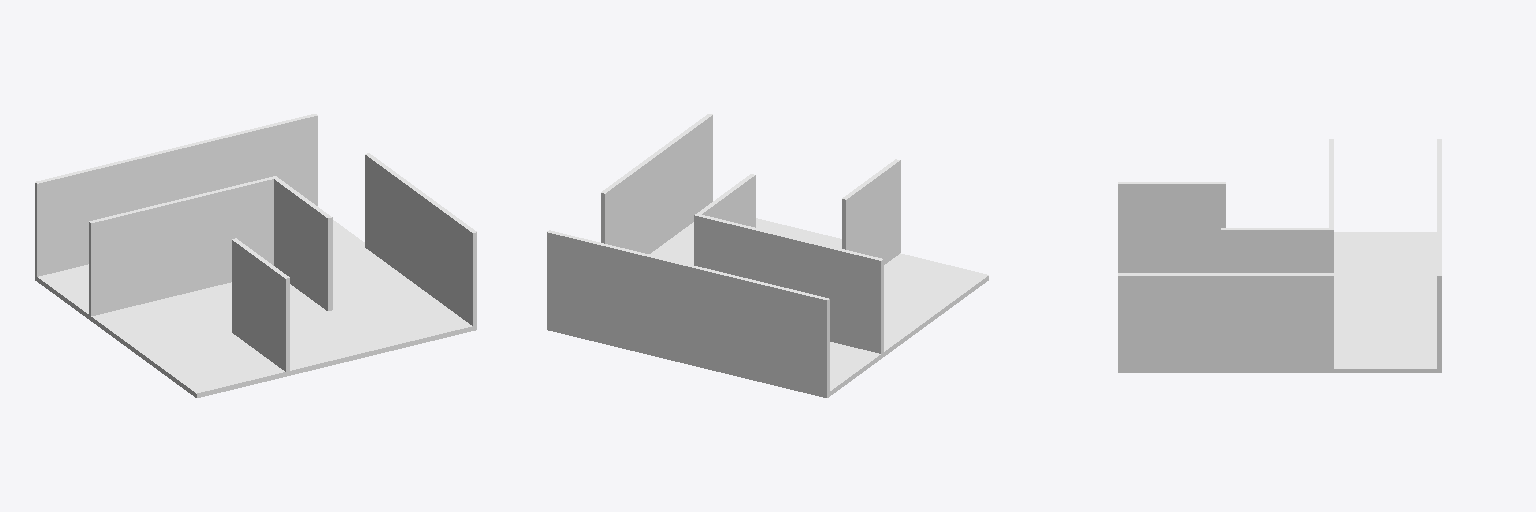
Rendered from level_maze-2.obj.
3 views of the same model, side by side, from view 1: azimuth 30°, elevation 25°; view 2: azimuth 150°, elevation 25°; view 3: azimuth 270°, elevation 25° (orthographic).
Parts seen in each view (by area): view 1: level_maze-2; view 2: level_maze-2; view 3: level_maze-2.
Part boxes in pixels (bbox=[...]): level_maze-2: bbox=[35, 114, 476, 397]; level_maze-2: bbox=[547, 114, 988, 397]; level_maze-2: bbox=[1118, 139, 1441, 372].
Size of the model in its own units: 60 by 20 by 60.